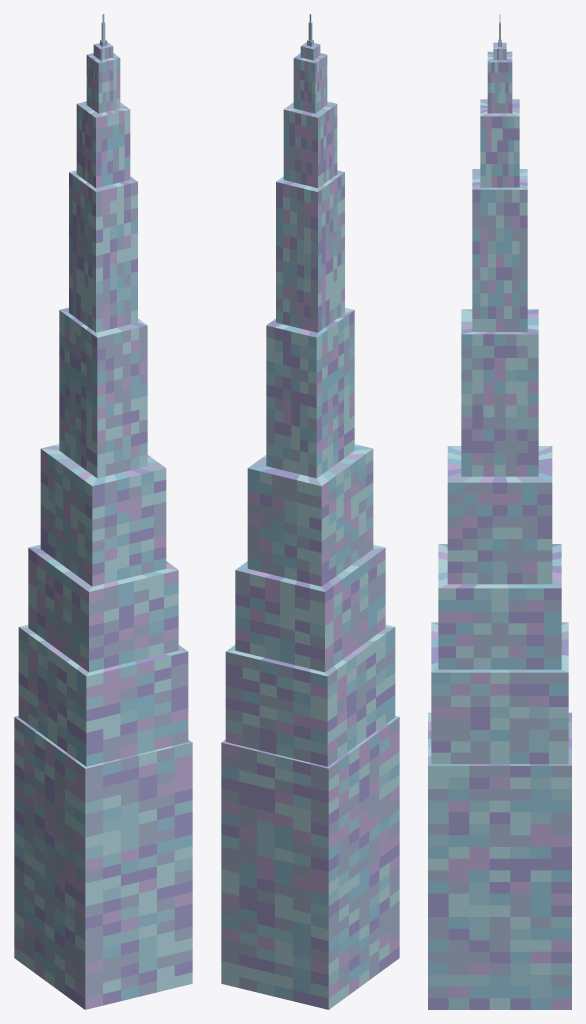
The model's file is tower.gltf.
3 renders of one model, left to right at view 1: azimuth 30°, elevation 25°; view 2: azimuth 150°, elevation 25°; view 3: azimuth 270°, elevation 25°, orthographic.
Parts seen in each view (by area): view 1: Cube.001, Cube.002, Cube.004, Cube.005, Cube.003, Cube; view 2: Cube.001, Cube.002, Cube.004, Cube.003, Cube.005, Cube; view 3: Cube.001, Cube.003, Cube.002, Cube.004, Cube, Cube.005.
Boxes of the visible parts, x1,y1,x2,y2 form: Cube.001: [14, 14, 192, 998]; Cube.002: [14, 15, 192, 993]; Cube.004: [14, 14, 192, 1009]; Cube.005: [14, 23, 192, 1009]; Cube.003: [14, 14, 192, 1000]; Cube: [14, 23, 192, 973]; Cube.001: [221, 14, 399, 992]; Cube.002: [221, 23, 399, 1009]; Cube.004: [221, 14, 399, 1009]; Cube.003: [221, 14, 399, 1000]; Cube.005: [221, 14, 399, 997]; Cube: [221, 23, 399, 998]; Cube.001: [428, 23, 571, 998]; Cube.003: [428, 22, 571, 1009]; Cube.002: [428, 15, 571, 1009]; Cube.004: [428, 22, 571, 1009]; Cube: [428, 14, 571, 1009]; Cube.005: [428, 40, 571, 1009].
Bounding box in the file's own units: 1.77 × 15.05 × 2.02.
